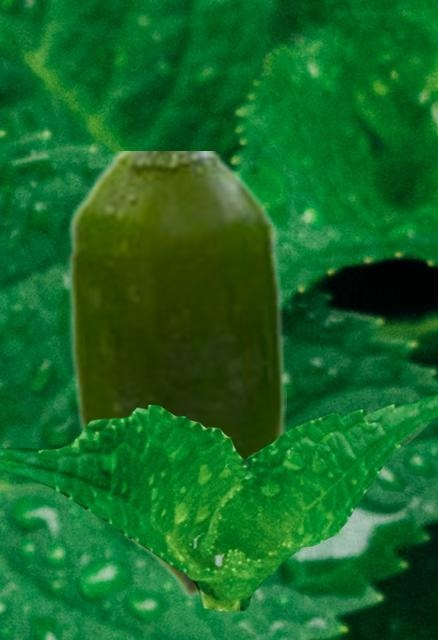green_chili: (66, 151, 285, 597)
